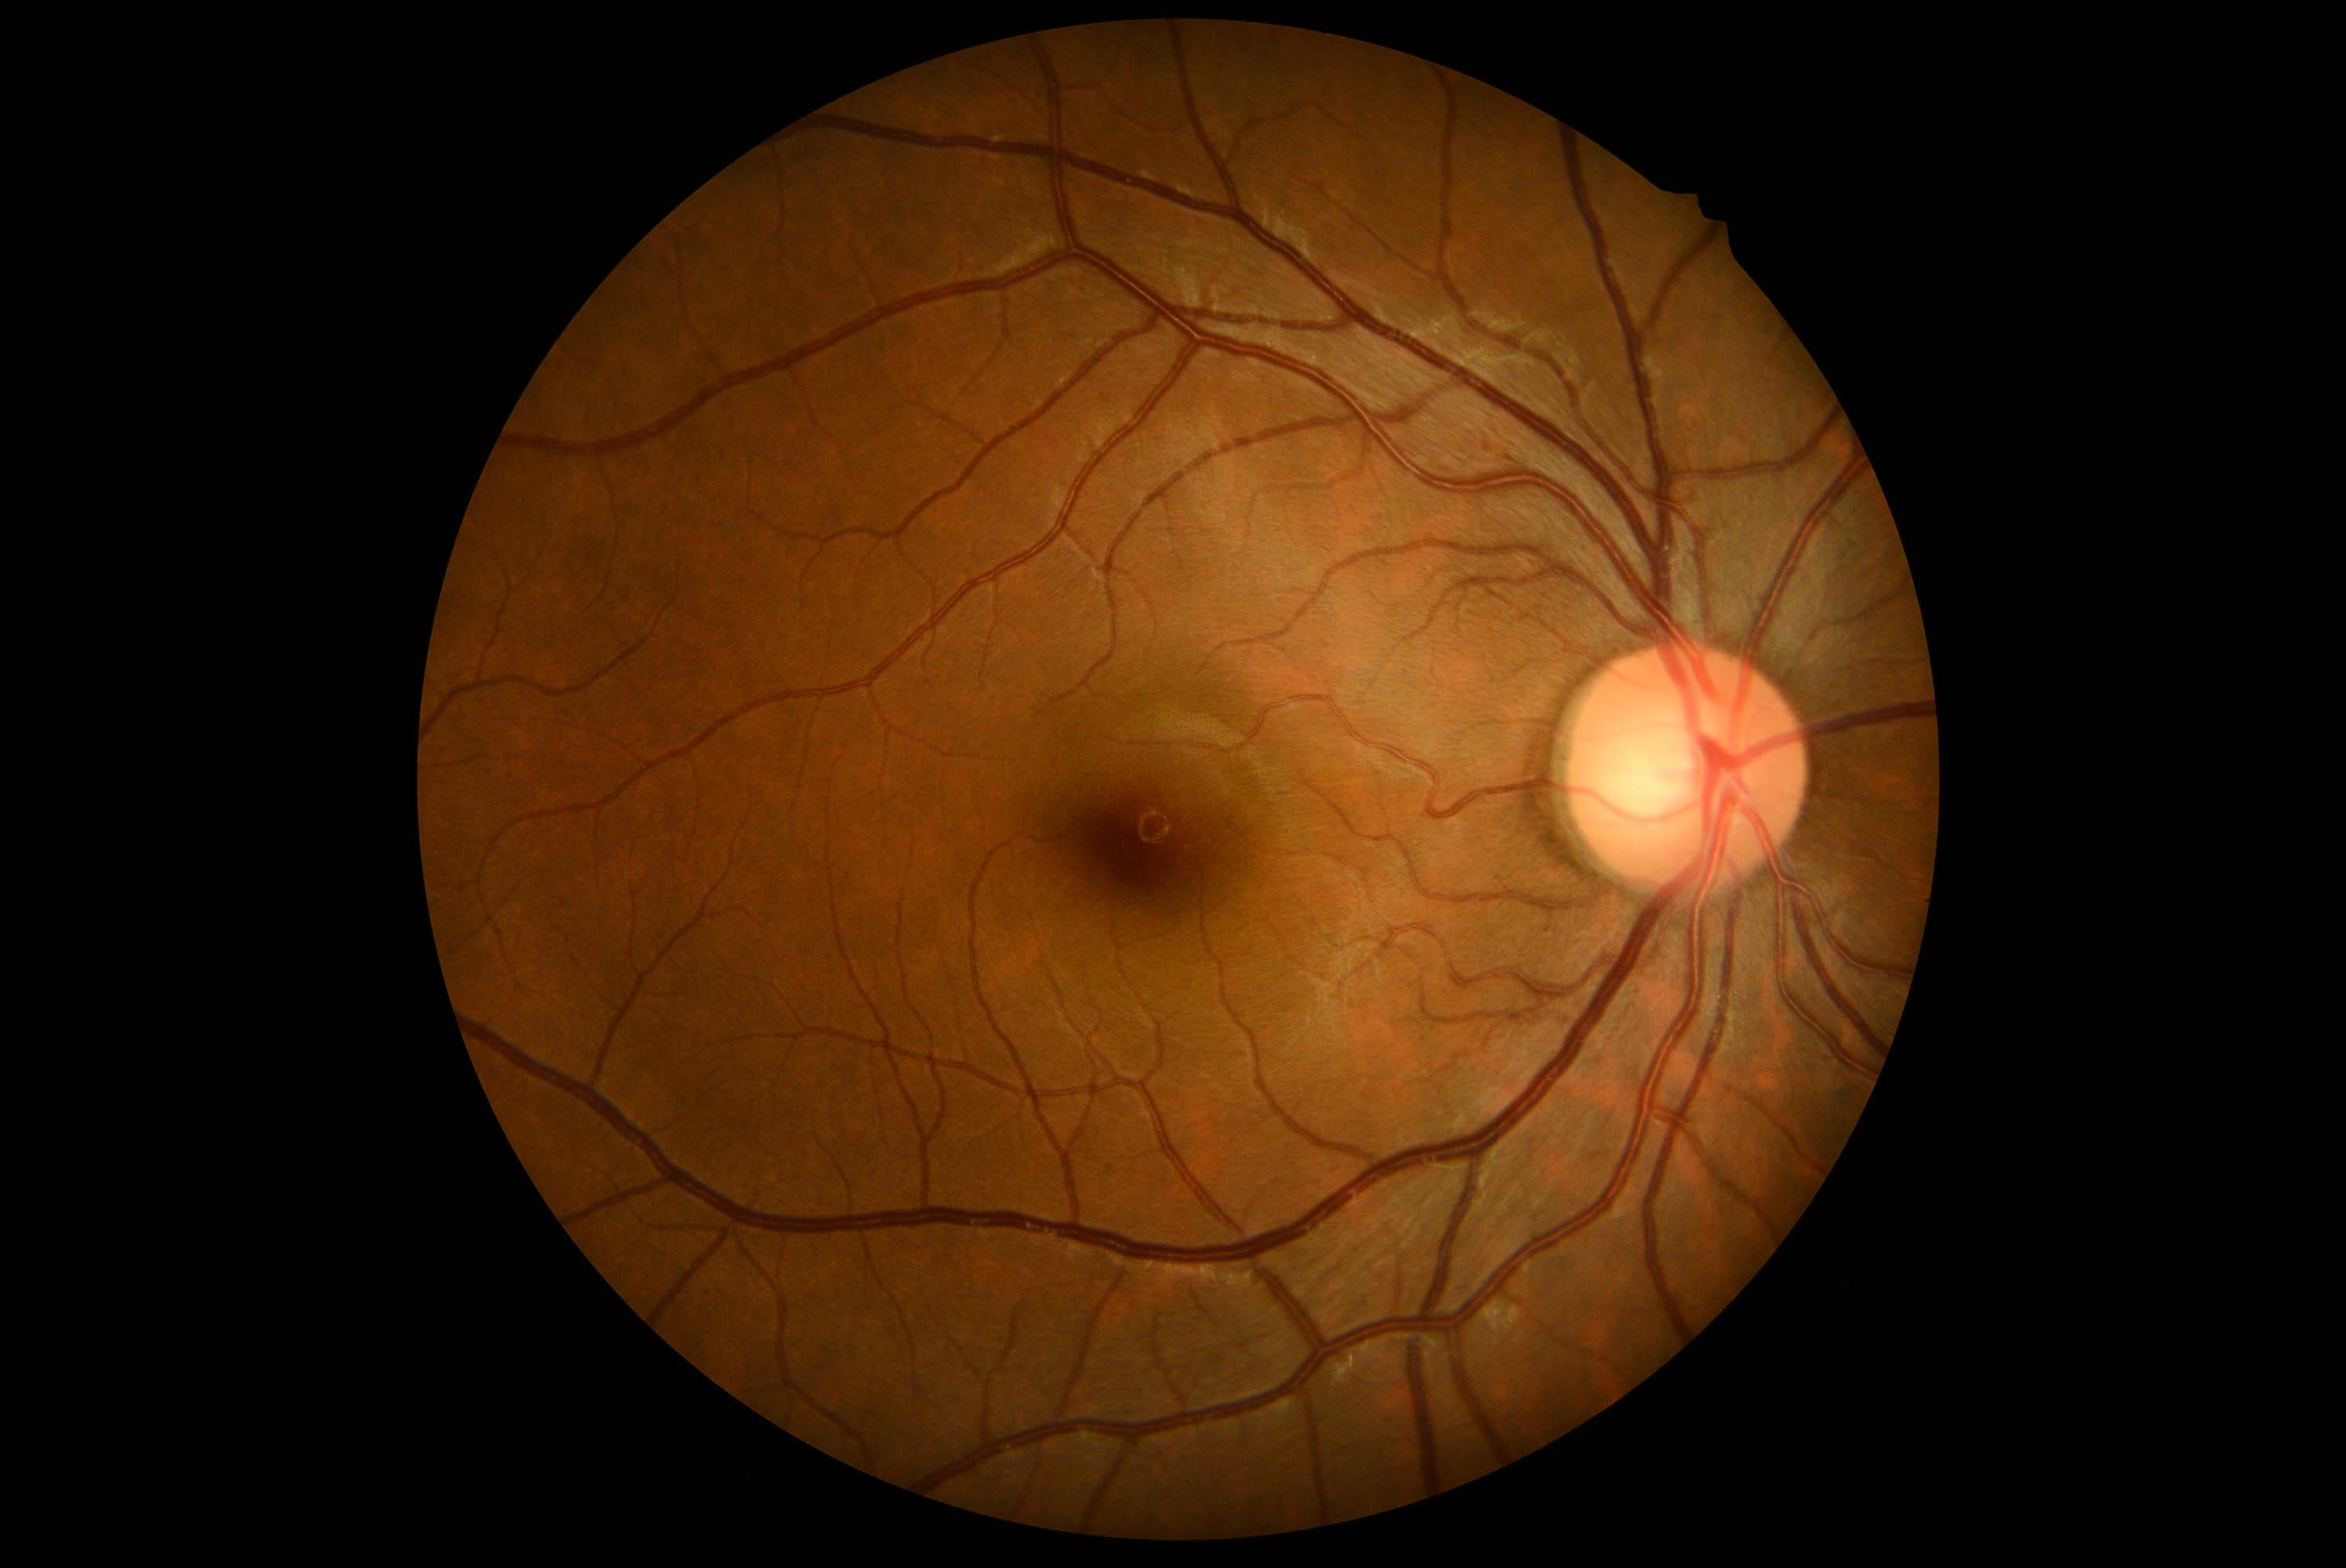Fovea: (1062, 756, 1219, 910)
